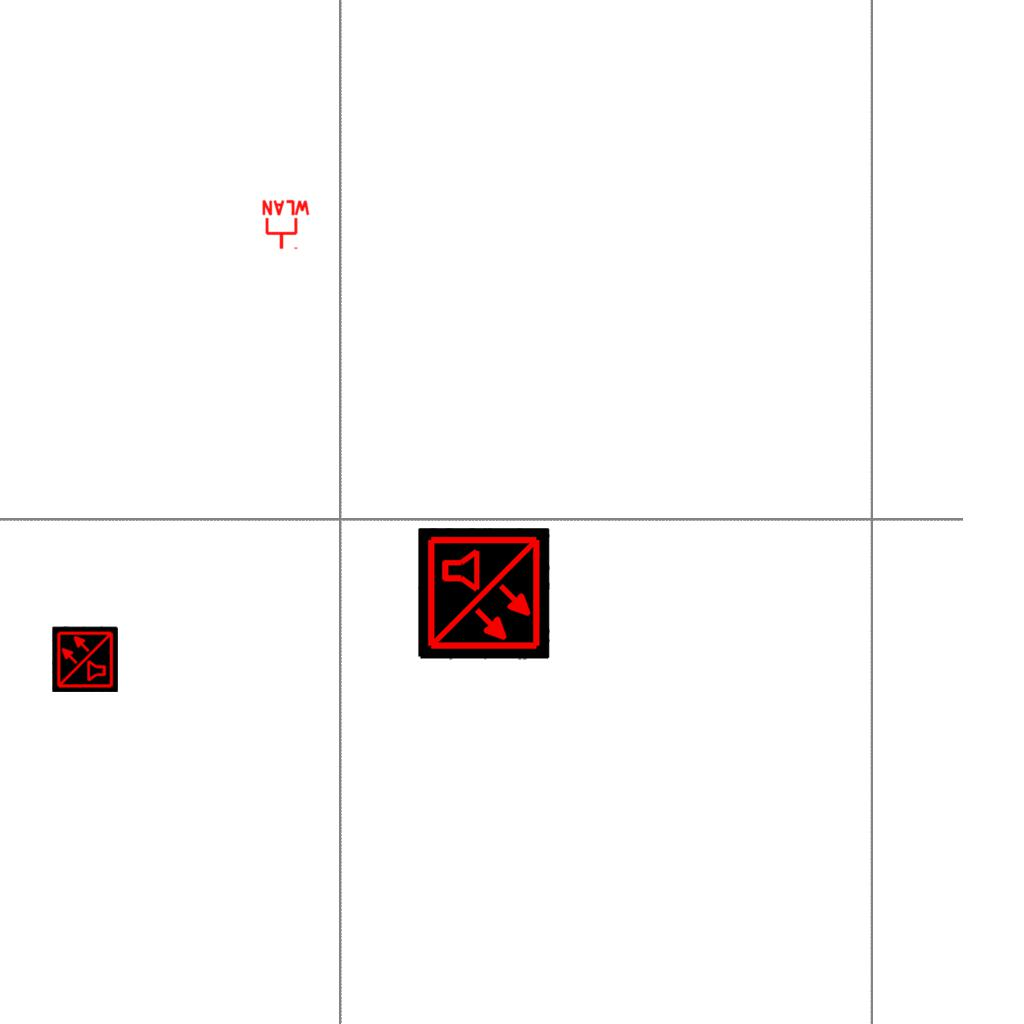OKW_Multisensormelder_(Kombination_optischer_Rauch-Kahlenmonoxid_Waerme-Melder): (418, 528, 550, 660), (52, 626, 118, 692)
WLAN: (260, 199, 312, 251)
